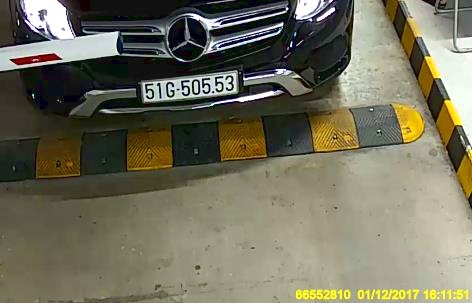plate: (141, 74, 240, 101)
